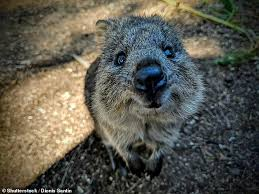quokka: (70, 5, 207, 176)
